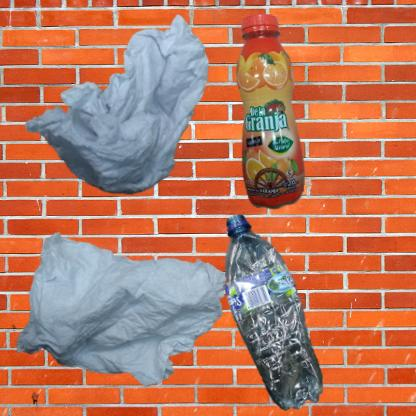botella: (213, 10, 340, 233), (213, 213, 338, 416)
papel: (10, 213, 259, 416), (10, 10, 236, 217)
